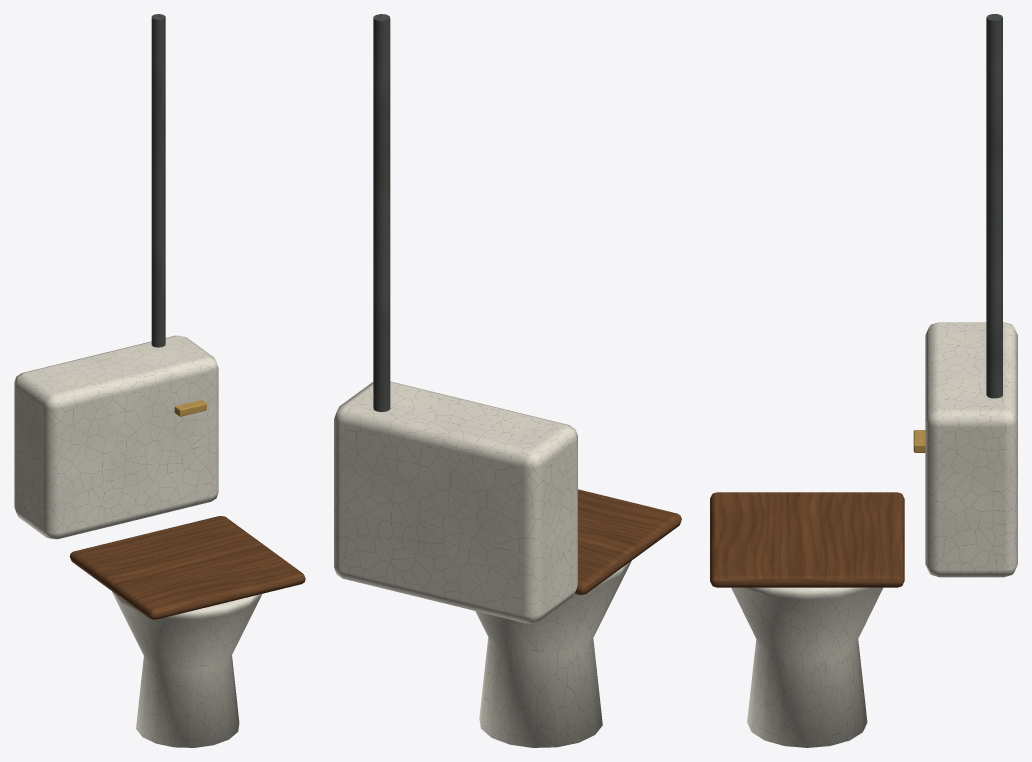
File: toilet.glb
3 views of the same model, side by side, from view 1: azimuth 30°, elevation 25°; view 2: azimuth 150°, elevation 25°; view 3: azimuth 270°, elevation 25° (orthographic). The views are drawn at different scales.
Visible parts, largest first — view 1: toilet; view 2: toilet; view 3: toilet.
Part boxes in pixels (box(x1,y1,x2,y2)): toilet: box(14, 14, 305, 747); toilet: box(334, 14, 681, 747); toilet: box(710, 14, 1017, 747).
Size of the model in its own units: 0.5004 by 1.75 by 0.6652.
Materials: 4 (4 with a texture image).
